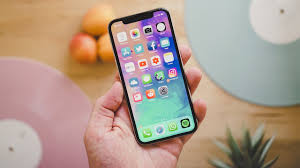iphone: (108, 5, 202, 144)
iphone10: (108, 6, 202, 145)
